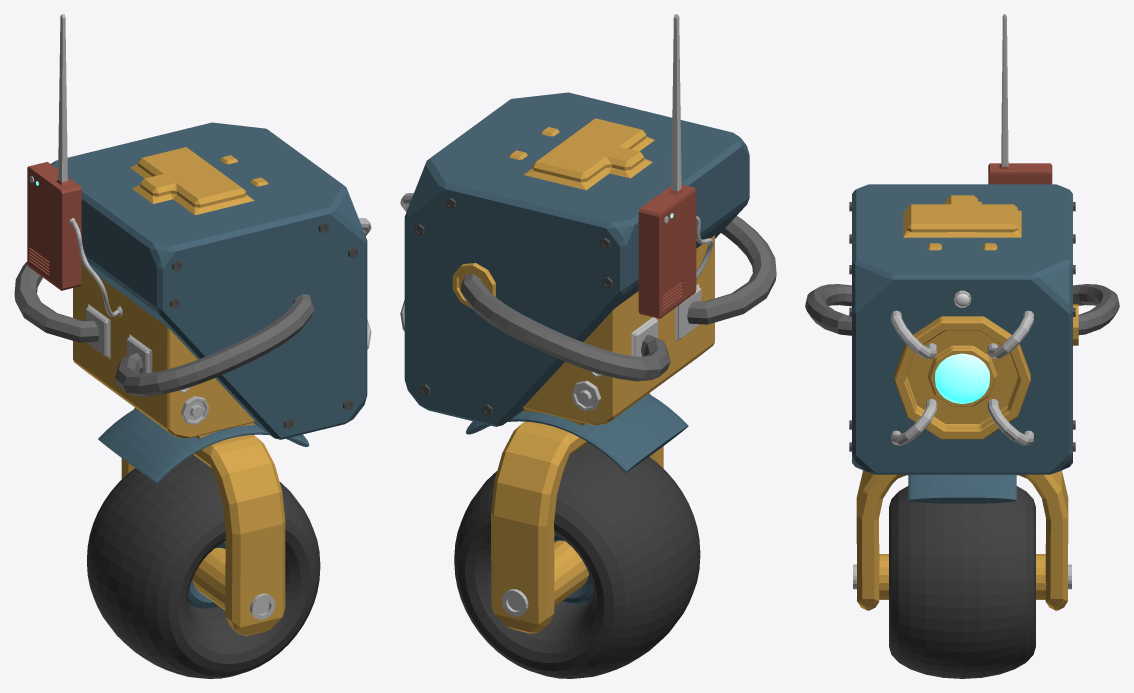
Rendered from Bot.fbx.
The picture shows the model from 3 angles, left to right: view 1: azimuth 30°, elevation 25°; view 2: azimuth 150°, elevation 25°; view 3: azimuth 270°, elevation 25°; orthographic projection. The views are drawn at different scales.
Parts seen in each view (by area): view 1: Cylinder.001, Torus, Cylinder.006; view 2: Cylinder.001, Torus, Cylinder.006; view 3: Cylinder.001, Torus, Cylinder.006.
Part boxes in pixels (left/top/right/bottom): Cylinder.001: left=14, top=122, right=371, bottom=635; Torus: left=87, top=454, right=320, bottom=678; Cylinder.006: left=27, top=14, right=81, bottom=290; Cylinder.001: left=400, top=92, right=776, bottom=633; Torus: left=454, top=442, right=700, bottom=678; Cylinder.006: left=638, top=14, right=696, bottom=318; Cylinder.001: left=805, top=184, right=1119, bottom=610; Torus: left=889, top=486, right=1035, bottom=678; Cylinder.006: left=988, top=14, right=1052, bottom=184.
Bounding box in the file's own units: 399 × 939 × 444.
